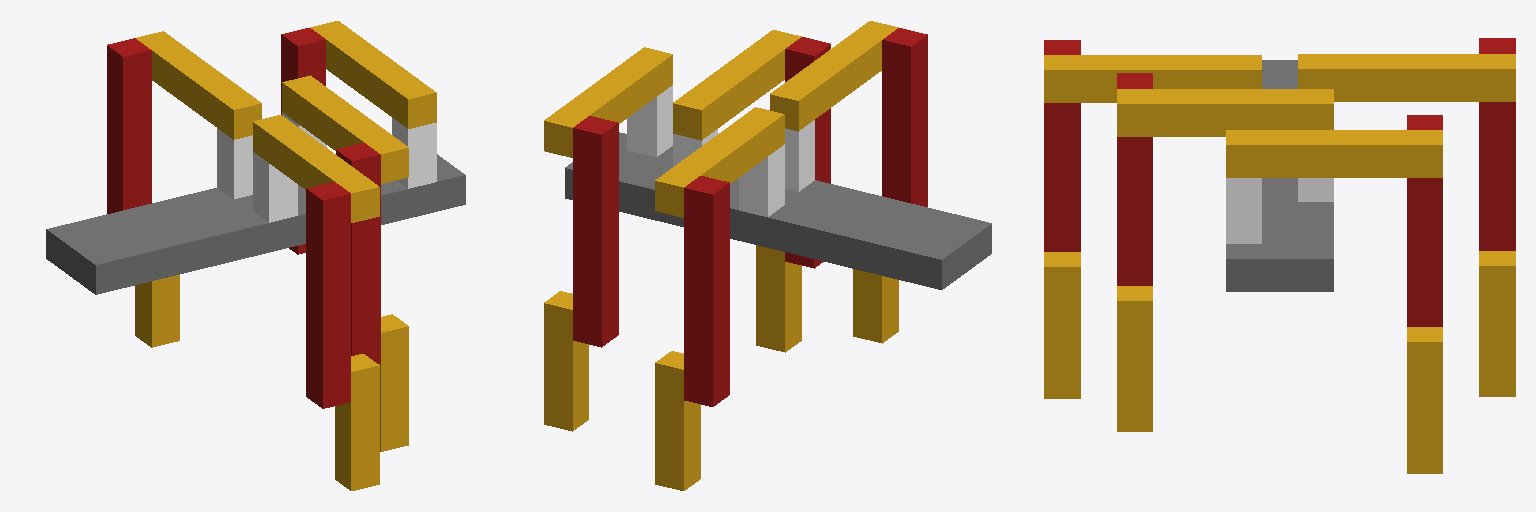
The robot description file, URDF, robot "v0":
<?xml version="1.0" encoding="utf-8"?>
<!-- =================================================================================== -->
<!-- |    This document was autogenerated by xacro from ../robots/v0variants/xacros/v0_4l_20.xacro | -->
<!-- |    EDITING THIS FILE BY HAND IS NOT RECOMMENDED                                 | -->
<!-- =================================================================================== -->
<robot name="v0">
  <material name="grey">
    <color rgba="0.5 0.5 0.5 1"/>
  </material>
  <material name="white">
    <color rgba="1 1 1 1"/>
  </material>
  <material name="yellow">
    <color rgba="0.91 0.7 0.14 1"/>
  </material>
  <material name="red">
    <color rgba="0.71 0.14 0.14 1"/>
  </material>
  <link name="body">
    <visual>
      <geometry>
        <box size="1.3 0.3 0.1"/>
      </geometry>
      <material name="grey"/>
      <origin rpy="0 0 0" xyz="0 0 0.7"/>
    </visual>
    <collision>
      <geometry>
        <box size="1.3 0.3 0.1"/>
      </geometry>
      <origin rpy="0 0 0" xyz="0 0 0.7"/>
    </collision>
    <inertial>
      <mass value="99.84"/>
      <inertia ixx="0.832" ixy="0.0" ixz="0.0" iyy="14.144" iyz="0.0" izz="14.8096"/>
    </inertial>
  </link>
  <link name="l1_segment_1">
    <visual>
      <geometry>
        <box size="0.1 0.1 0.2"/>
      </geometry>
      <material name="white"/>
      <origin rpy="0 0 0" xyz="0 0 0.1"/>
    </visual>
    <collision>
      <geometry>
        <box size="0.1 0.1 0.2"/>
      </geometry>
      <origin rpy="0 0 0" xyz="0 0 0.1"/>
    </collision>
    <inertial>
      <mass value="5.12"/>
      <inertia ixx="0.0213333333333" ixy="0.0" ixz="0.0" iyy="0.0213333333333" iyz="0.0" izz="0.00853333333333"/>
    </inertial>
  </link>
  <joint name="l1_base_to_joint_1" type="fixed">
    <parent link="body"/>
    <child link="l1_segment_1"/>
    <origin rpy="0 0 0" xyz="0.4990020509882823 -0.1 0.75"/>
  </joint>
  <link name="l1_segment_2_HIP">
    <visual>
      <geometry>
        <box size="0.1 0.6 0.1"/>
      </geometry>
      <material name="yellow"/>
      <origin rpy="0 0 0" xyz="0 0.25 0"/>
    </visual>
    <collision>
      <geometry>
        <box size="0.1 0.6 0.1"/>
      </geometry>
      <origin rpy="0 0 0" xyz="0 0.25 0"/>
    </collision>
    <inertial>
      <mass value="15.36"/>
      <inertia ixx="0.4736" ixy="0.0" ixz="0.0" iyy="0.0256" iyz="0.0" izz="0.4736"/>
    </inertial>
  </link>
  <joint name="l1_joint_1_to_2" type="revolute">
    <parent link="l1_segment_1"/>
    <child link="l1_segment_2_HIP"/>
    <origin rpy="0 0 0" xyz="0 0 0.25"/>
    <axis xyz="0.0 0.0 1.0"/>
    <limit effort="2048" lower="-1.2" upper="1.2" velocity="20"/>
  </joint>
  <link name="l1_segment_3_THIGH">
    <visual>
      <geometry>
        <box size="0.1 0.1 0.7"/>
      </geometry>
      <material name="red"/>
      <origin rpy="0 0 0" xyz="0 0 -0.3"/>
    </visual>
    <collision>
      <geometry>
        <box size="0.1 0.1 0.7"/>
      </geometry>
      <origin rpy="0 0 0" xyz="0 0 -0.3"/>
    </collision>
    <inertial>
      <mass value="17.92"/>
      <inertia ixx="0.746666666667" ixy="0.0" ixz="0.0" iyy="0.746666666667" iyz="0.0" izz="0.0298666666667"/>
    </inertial>
  </link>
  <joint name="l1_joint_2_to_3" type="revolute">
    <parent link="l1_segment_2_HIP"/>
    <child link="l1_segment_3_THIGH"/>
    <origin rpy="0 0 0" xyz="-0.1 0.5 0"/>
    <axis xyz="1.0 0.0 0.0"/>
    <limit effort="2048" lower="-0.2" upper="0.75" velocity="20"/>
  </joint>
  <link name="l1_segment_4_FOOT">
    <visual>
      <geometry>
        <box size="0.1 0.1 0.4"/>
      </geometry>
      <material name="yellow"/>
      <origin rpy="0 0 0" xyz="0 0 -0.2"/>
    </visual>
    <collision>
      <geometry>
        <box size="0.1 0.1 0.4"/>
      </geometry>
      <origin rpy="0 0 0" xyz="0 0 -0.2"/>
    </collision>
    <inertial>
      <mass value="10.24"/>
      <inertia ixx="0.145066666667" ixy="0.0" ixz="0.0" iyy="0.145066666667" iyz="0.0" izz="0.0170666666667"/>
    </inertial>
  </link>
  <joint name="l1_joint_3_to_4_FOOT" type="revolute">
    <parent link="l1_segment_3_THIGH"/>
    <child link="l1_segment_4_FOOT"/>
    <origin rpy="0 0 0" xyz="0.1 0 -0.55"/>
    <axis xyz="1.0 0.0 0.0"/>
    <limit effort="2048" lower="-0.2" upper="0.5" velocity="20"/>
  </joint>
  <link name="r2_segment_1">
    <visual>
      <geometry>
        <box size="0.1 0.1 0.2"/>
      </geometry>
      <material name="white"/>
      <origin rpy="0 0 0" xyz="0 0 0.1"/>
    </visual>
    <collision>
      <geometry>
        <box size="0.1 0.1 0.2"/>
      </geometry>
      <origin rpy="0 0 0" xyz="0 0 0.1"/>
    </collision>
    <inertial>
      <mass value="5.12"/>
      <inertia ixx="0.0213333333333" ixy="0.0" ixz="0.0" iyy="0.0213333333333" iyz="0.0" izz="0.00853333333333"/>
    </inertial>
  </link>
  <joint name="r2_base_to_joint_1" type="fixed">
    <parent link="body"/>
    <child link="r2_segment_1"/>
    <origin rpy="0 0 0" xyz="0.009746893355198738 -0.1 0.75"/>
  </joint>
  <link name="r2_segment_2_HIP">
    <visual>
      <geometry>
        <box size="0.1 0.6 0.1"/>
      </geometry>
      <material name="yellow"/>
      <origin rpy="0 0 0" xyz="0 -0.25 0"/>
    </visual>
    <collision>
      <geometry>
        <box size="0.1 0.6 0.1"/>
      </geometry>
      <origin rpy="0 0 0" xyz="0 -0.25 0"/>
    </collision>
    <inertial>
      <mass value="15.36"/>
      <inertia ixx="0.4736" ixy="0.0" ixz="0.0" iyy="0.0256" iyz="0.0" izz="0.4736"/>
    </inertial>
  </link>
  <joint name="r2_joint_1_to_2" type="revolute">
    <parent link="r2_segment_1"/>
    <child link="r2_segment_2_HIP"/>
    <origin rpy="0 0 0" xyz="0 0 0.25"/>
    <axis xyz="0.0 0.0 1.0"/>
    <limit effort="2048" lower="-1.2" upper="1.2" velocity="20"/>
  </joint>
  <link name="r2_segment_3_THIGH">
    <visual>
      <geometry>
        <box size="0.1 0.1 0.7"/>
      </geometry>
      <material name="red"/>
      <origin rpy="0 0 0" xyz="0 0 -0.3"/>
    </visual>
    <collision>
      <geometry>
        <box size="0.1 0.1 0.7"/>
      </geometry>
      <origin rpy="0 0 0" xyz="0 0 -0.3"/>
    </collision>
    <inertial>
      <mass value="17.92"/>
      <inertia ixx="0.746666666667" ixy="0.0" ixz="0.0" iyy="0.746666666667" iyz="0.0" izz="0.0298666666667"/>
    </inertial>
  </link>
  <joint name="r2_joint_2_to_3" type="revolute">
    <parent link="r2_segment_2_HIP"/>
    <child link="r2_segment_3_THIGH"/>
    <origin rpy="0 0 0" xyz="-0.1 -0.5 0"/>
    <axis xyz="1.0 0.0 0.0"/>
    <limit effort="2048" lower="-0.75" upper="0.2" velocity="20"/>
  </joint>
  <link name="r2_segment_4_FOOT">
    <visual>
      <geometry>
        <box size="0.1 0.1 0.4"/>
      </geometry>
      <material name="yellow"/>
      <origin rpy="0 0 0" xyz="0 0 -0.2"/>
    </visual>
    <collision>
      <geometry>
        <box size="0.1 0.1 0.4"/>
      </geometry>
      <origin rpy="0 0 0" xyz="0 0 -0.2"/>
    </collision>
    <inertial>
      <mass value="10.24"/>
      <inertia ixx="0.145066666667" ixy="0.0" ixz="0.0" iyy="0.145066666667" iyz="0.0" izz="0.0170666666667"/>
    </inertial>
  </link>
  <joint name="r2_joint_3_to_4_FOOT" type="revolute">
    <parent link="r2_segment_3_THIGH"/>
    <child link="r2_segment_4_FOOT"/>
    <origin rpy="0 0 0" xyz="0.1 0 -0.55"/>
    <axis xyz="1.0 0.0 0.0"/>
    <limit effort="2048" lower="-0.5" upper="0.2" velocity="20"/>
  </joint>
  <link name="l3_segment_1">
    <visual>
      <geometry>
        <box size="0.1 0.1 0.2"/>
      </geometry>
      <material name="white"/>
      <origin rpy="0 0 0" xyz="0 0 0.1"/>
    </visual>
    <collision>
      <geometry>
        <box size="0.1 0.1 0.2"/>
      </geometry>
      <origin rpy="0 0 0" xyz="0 0 0.1"/>
    </collision>
    <inertial>
      <mass value="5.12"/>
      <inertia ixx="0.0213333333333" ixy="0.0" ixz="0.0" iyy="0.0213333333333" iyz="0.0" izz="0.00853333333333"/>
    </inertial>
  </link>
  <joint name="l3_base_to_joint_1" type="fixed">
    <parent link="body"/>
    <child link="l3_segment_1"/>
    <origin rpy="0 0 0" xyz="0.0003672928614044668 0.1 0.75"/>
  </joint>
  <link name="l3_segment_2_HIP">
    <visual>
      <geometry>
        <box size="0.1 0.6 0.1"/>
      </geometry>
      <material name="yellow"/>
      <origin rpy="0 0 0" xyz="0 0.25 0"/>
    </visual>
    <collision>
      <geometry>
        <box size="0.1 0.6 0.1"/>
      </geometry>
      <origin rpy="0 0 0" xyz="0 0.25 0"/>
    </collision>
    <inertial>
      <mass value="15.36"/>
      <inertia ixx="0.4736" ixy="0.0" ixz="0.0" iyy="0.0256" iyz="0.0" izz="0.4736"/>
    </inertial>
  </link>
  <joint name="l3_joint_1_to_2" type="revolute">
    <parent link="l3_segment_1"/>
    <child link="l3_segment_2_HIP"/>
    <origin rpy="0 0 0" xyz="0 0 0.25"/>
    <axis xyz="0.0 0.0 1.0"/>
    <limit effort="2048" lower="-1.2" upper="1.2" velocity="20"/>
  </joint>
  <link name="l3_segment_3_THIGH">
    <visual>
      <geometry>
        <box size="0.1 0.1 0.7"/>
      </geometry>
      <material name="red"/>
      <origin rpy="0 0 0" xyz="0 0 -0.3"/>
    </visual>
    <collision>
      <geometry>
        <box size="0.1 0.1 0.7"/>
      </geometry>
      <origin rpy="0 0 0" xyz="0 0 -0.3"/>
    </collision>
    <inertial>
      <mass value="17.92"/>
      <inertia ixx="0.746666666667" ixy="0.0" ixz="0.0" iyy="0.746666666667" iyz="0.0" izz="0.0298666666667"/>
    </inertial>
  </link>
  <joint name="l3_joint_2_to_3" type="revolute">
    <parent link="l3_segment_2_HIP"/>
    <child link="l3_segment_3_THIGH"/>
    <origin rpy="0 0 0" xyz="-0.1 0.5 0"/>
    <axis xyz="1.0 0.0 0.0"/>
    <limit effort="2048" lower="-0.2" upper="0.75" velocity="20"/>
  </joint>
  <link name="l3_segment_4_FOOT">
    <visual>
      <geometry>
        <box size="0.1 0.1 0.4"/>
      </geometry>
      <material name="yellow"/>
      <origin rpy="0 0 0" xyz="0 0 -0.2"/>
    </visual>
    <collision>
      <geometry>
        <box size="0.1 0.1 0.4"/>
      </geometry>
      <origin rpy="0 0 0" xyz="0 0 -0.2"/>
    </collision>
    <inertial>
      <mass value="10.24"/>
      <inertia ixx="0.145066666667" ixy="0.0" ixz="0.0" iyy="0.145066666667" iyz="0.0" izz="0.0170666666667"/>
    </inertial>
  </link>
  <joint name="l3_joint_3_to_4_FOOT" type="revolute">
    <parent link="l3_segment_3_THIGH"/>
    <child link="l3_segment_4_FOOT"/>
    <origin rpy="0 0 0" xyz="0.1 0 -0.55"/>
    <axis xyz="1.0 0.0 0.0"/>
    <limit effort="2048" lower="-0.2" upper="0.5" velocity="20"/>
  </joint>
  <link name="r4_segment_1">
    <visual>
      <geometry>
        <box size="0.1 0.1 0.2"/>
      </geometry>
      <material name="white"/>
      <origin rpy="0 0 0" xyz="0 0 0.1"/>
    </visual>
    <collision>
      <geometry>
        <box size="0.1 0.1 0.2"/>
      </geometry>
      <origin rpy="0 0 0" xyz="0 0 0.1"/>
    </collision>
    <inertial>
      <mass value="5.12"/>
      <inertia ixx="0.0213333333333" ixy="0.0" ixz="0.0" iyy="0.0213333333333" iyz="0.0" izz="0.00853333333333"/>
    </inertial>
  </link>
  <joint name="r4_base_to_joint_1" type="fixed">
    <parent link="body"/>
    <child link="r4_segment_1"/>
    <origin rpy="0 0 0" xyz="0.2282612755616743 0.1 0.75"/>
  </joint>
  <link name="r4_segment_2_HIP">
    <visual>
      <geometry>
        <box size="0.1 0.6 0.1"/>
      </geometry>
      <material name="yellow"/>
      <origin rpy="0 0 0" xyz="0 -0.25 0"/>
    </visual>
    <collision>
      <geometry>
        <box size="0.1 0.6 0.1"/>
      </geometry>
      <origin rpy="0 0 0" xyz="0 -0.25 0"/>
    </collision>
    <inertial>
      <mass value="15.36"/>
      <inertia ixx="0.4736" ixy="0.0" ixz="0.0" iyy="0.0256" iyz="0.0" izz="0.4736"/>
    </inertial>
  </link>
  <joint name="r4_joint_1_to_2" type="revolute">
    <parent link="r4_segment_1"/>
    <child link="r4_segment_2_HIP"/>
    <origin rpy="0 0 0" xyz="0 0 0.25"/>
    <axis xyz="0.0 0.0 1.0"/>
    <limit effort="2048" lower="-1.2" upper="1.2" velocity="20"/>
  </joint>
  <link name="r4_segment_3_THIGH">
    <visual>
      <geometry>
        <box size="0.1 0.1 0.7"/>
      </geometry>
      <material name="red"/>
      <origin rpy="0 0 0" xyz="0 0 -0.3"/>
    </visual>
    <collision>
      <geometry>
        <box size="0.1 0.1 0.7"/>
      </geometry>
      <origin rpy="0 0 0" xyz="0 0 -0.3"/>
    </collision>
    <inertial>
      <mass value="17.92"/>
      <inertia ixx="0.746666666667" ixy="0.0" ixz="0.0" iyy="0.746666666667" iyz="0.0" izz="0.0298666666667"/>
    </inertial>
  </link>
  <joint name="r4_joint_2_to_3" type="revolute">
    <parent link="r4_segment_2_HIP"/>
    <child link="r4_segment_3_THIGH"/>
    <origin rpy="0 0 0" xyz="-0.1 -0.5 0"/>
    <axis xyz="1.0 0.0 0.0"/>
    <limit effort="2048" lower="-0.75" upper="0.2" velocity="20"/>
  </joint>
  <link name="r4_segment_4_FOOT">
    <visual>
      <geometry>
        <box size="0.1 0.1 0.4"/>
      </geometry>
      <material name="yellow"/>
      <origin rpy="0 0 0" xyz="0 0 -0.2"/>
    </visual>
    <collision>
      <geometry>
        <box size="0.1 0.1 0.4"/>
      </geometry>
      <origin rpy="0 0 0" xyz="0 0 -0.2"/>
    </collision>
    <inertial>
      <mass value="10.24"/>
      <inertia ixx="0.145066666667" ixy="0.0" ixz="0.0" iyy="0.145066666667" iyz="0.0" izz="0.0170666666667"/>
    </inertial>
  </link>
  <joint name="r4_joint_3_to_4_FOOT" type="revolute">
    <parent link="r4_segment_3_THIGH"/>
    <child link="r4_segment_4_FOOT"/>
    <origin rpy="0 0 0" xyz="0.1 0 -0.55"/>
    <axis xyz="1.0 0.0 0.0"/>
    <limit effort="2048" lower="-0.5" upper="0.2" velocity="20"/>
  </joint>
</robot>

--- Facts derived from the render (not from the file) ---
The picture shows the robot from 3 angles, left to right: view 1: azimuth 30°, elevation 25°; view 2: azimuth 150°, elevation 25°; view 3: azimuth 270°, elevation 25°; orthographic projection.
Robot: v0 — 17 links, 16 joints (12 revolute, 4 fixed); root link body; default pose: all joints at 0.
Links seen in each view (by area): view 1: body, r2_segment_3_THIGH, l3_segment_3_THIGH, l1_segment_2_HIP, l3_segment_2_HIP, r2_segment_2_HIP, r4_segment_2_HIP, r4_segment_3_THIGH, r2_segment_4_FOOT, r4_segment_4_FOOT, l3_segment_4_FOOT, l1_segment_3_THIGH (+3 smaller); view 2: body, l1_segment_3_THIGH, l3_segment_3_THIGH, r2_segment_3_THIGH, r4_segment_2_HIP, r2_segment_2_HIP, l3_segment_2_HIP, l1_segment_2_HIP, l3_segment_4_FOOT, l1_segment_4_FOOT, r4_segment_4_FOOT, r2_segment_4_FOOT (+5 smaller); view 3: l1_segment_2_HIP, body, l3_segment_2_HIP, r4_segment_2_HIP, r2_segment_2_HIP, l3_segment_3_THIGH, r2_segment_3_THIGH, r4_segment_3_THIGH, l1_segment_3_THIGH, r2_segment_4_FOOT, l3_segment_4_FOOT, l1_segment_4_FOOT (+3 smaller).
Boxes of the visible links, x1,y1,x2,y2 form: body: [46, 154, 465, 294]; r2_segment_3_THIGH: [306, 182, 350, 408]; l3_segment_3_THIGH: [107, 38, 151, 213]; l1_segment_2_HIP: [310, 21, 436, 128]; l3_segment_2_HIP: [136, 31, 261, 139]; r2_segment_2_HIP: [253, 115, 379, 222]; r4_segment_2_HIP: [282, 75, 408, 183]; r4_segment_3_THIGH: [336, 143, 380, 363]; r2_segment_4_FOOT: [335, 354, 379, 490]; r4_segment_4_FOOT: [378, 314, 408, 451]; l3_segment_4_FOOT: [135, 275, 179, 347]; l1_segment_3_THIGH: [281, 28, 325, 254]; body: [565, 132, 991, 289]; l1_segment_3_THIGH: [573, 116, 618, 347]; l3_segment_3_THIGH: [684, 176, 729, 406]; r2_segment_3_THIGH: [882, 28, 927, 206]; r4_segment_2_HIP: [673, 30, 801, 140]; r2_segment_2_HIP: [770, 21, 898, 131]; l3_segment_2_HIP: [655, 107, 784, 217]; l1_segment_2_HIP: [544, 47, 672, 157]; l3_segment_4_FOOT: [655, 351, 700, 490]; l1_segment_4_FOOT: [544, 291, 588, 431]; r4_segment_4_FOOT: [756, 245, 801, 352]; r2_segment_4_FOOT: [853, 269, 898, 343]; l1_segment_2_HIP: [1226, 130, 1442, 177]; body: [1226, 60, 1333, 291]; l3_segment_2_HIP: [1298, 54, 1515, 101]; r4_segment_2_HIP: [1117, 89, 1333, 136]; r2_segment_2_HIP: [1044, 55, 1261, 102]; l3_segment_3_THIGH: [1479, 38, 1515, 250]; r2_segment_3_THIGH: [1044, 40, 1080, 251]; r4_segment_3_THIGH: [1117, 73, 1152, 285]; l1_segment_3_THIGH: [1407, 115, 1442, 326]; r2_segment_4_FOOT: [1044, 252, 1080, 398]; l3_segment_4_FOOT: [1479, 251, 1515, 396]; l1_segment_4_FOOT: [1407, 327, 1442, 473].
Bounding box of the posed robot: 1.3 × 1.3 × 1 m (x, y, z).
Geometry: primitives only (box / cylinder / sphere), no mesh files.